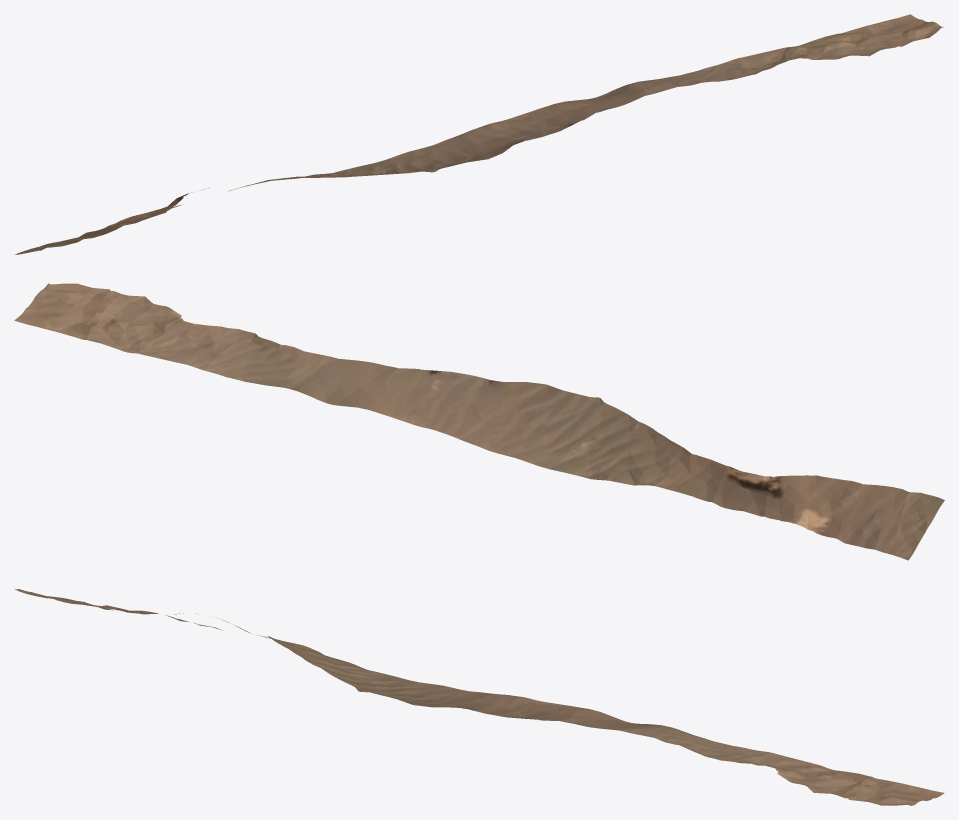
3 views of the same model, one above another, from view 1: azimuth 30°, elevation 25°; view 2: azimuth 150°, elevation 25°; view 3: azimuth 330°, elevation 25° (orthographic).
Size of the model in its own units: 4.18 by 0.151 by 0.4476.
Materials: 1 (1 with a texture image).
